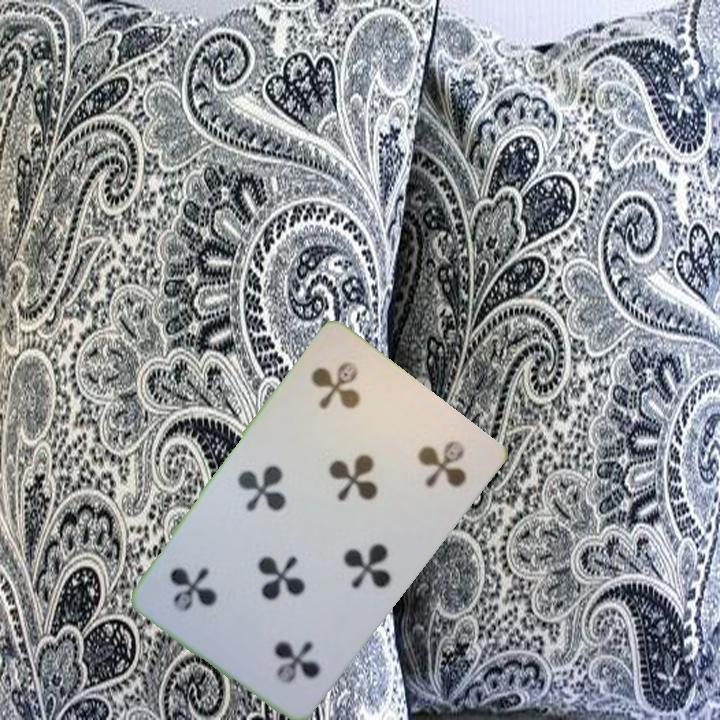c_8.png: (215, 582, 345, 709), (284, 338, 414, 465)
